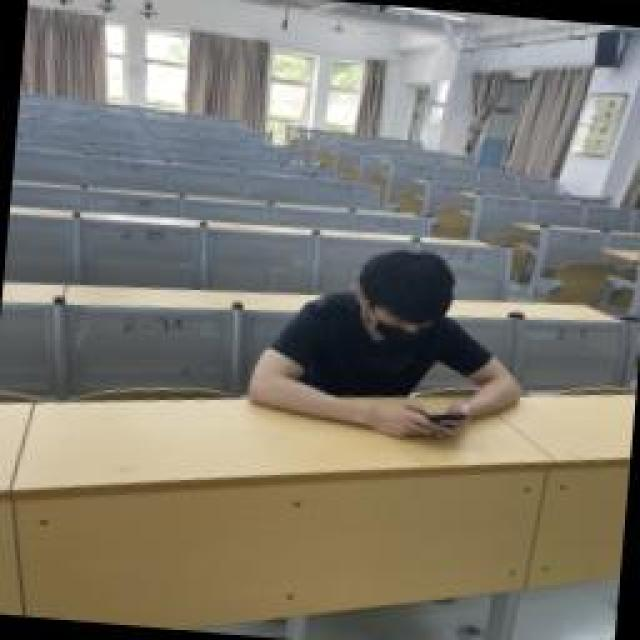phone: (245, 238, 533, 448)
